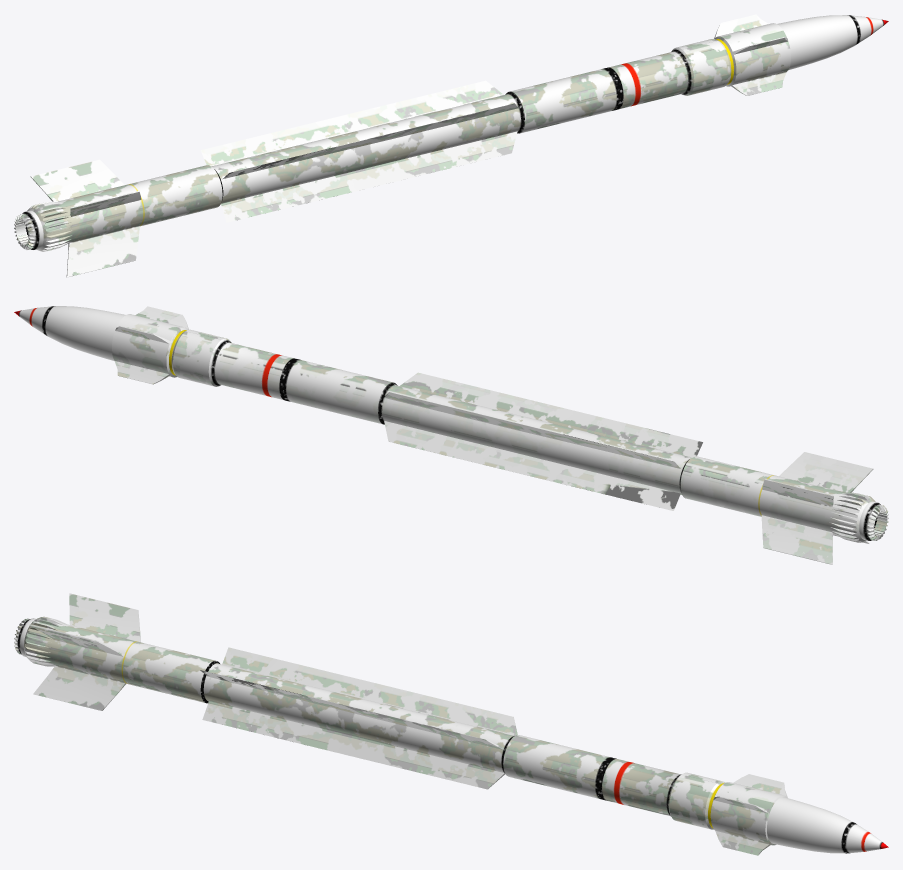
Rendered from mica.fbx.
The picture shows the model from 3 angles, top to bottom: view 1: azimuth 30°, elevation 25°; view 2: azimuth 150°, elevation 25°; view 3: azimuth 330°, elevation 25°; orthographic projection.
Parts seen in each view (by area): view 1: mica-missile; view 2: mica-missile; view 3: mica-missile.
Boxes of the visible parts, x1,y1,x2,y2 form: mica-missile: (14,14,888,277); mica-missile: (14,306,888,564); mica-missile: (14,593,888,855).
Bounding box in the file's own units: 3.11 × 0.2579 × 0.2574.
1 material, 1 textured.
